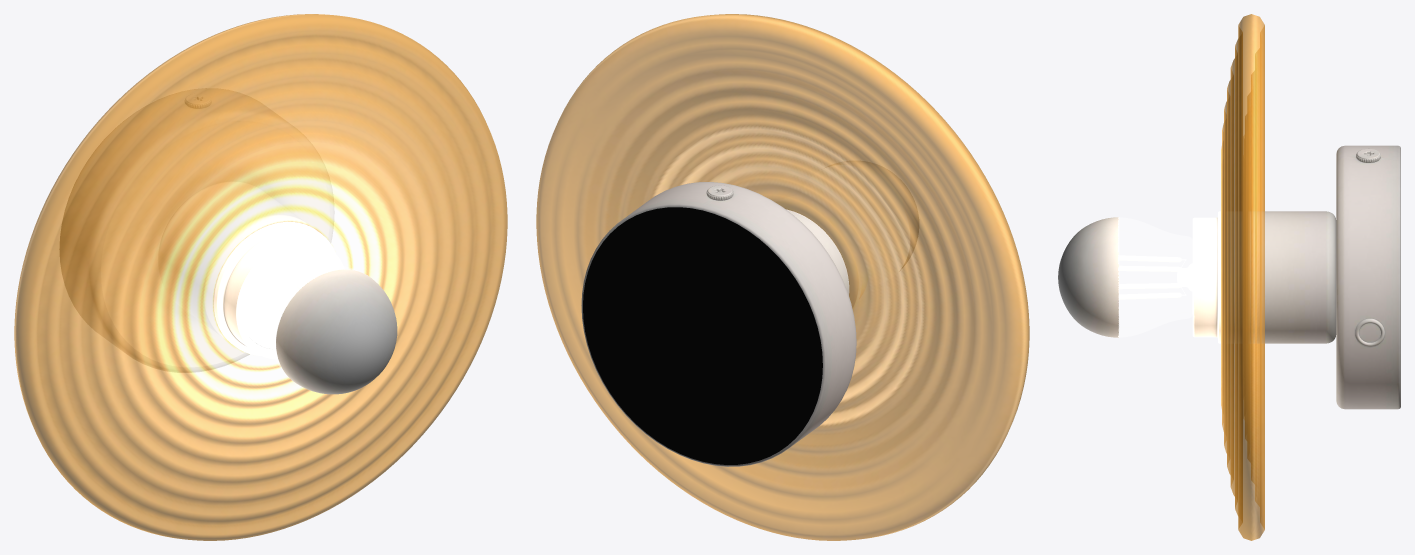
3 views of the same model, side by side, from view 1: azimuth 30°, elevation 25°; view 2: azimuth 150°, elevation 25°; view 3: azimuth 270°, elevation 25° (orthographic). The views are drawn at different scales.
Visible parts, largest first — view 1: lamp26024; view 2: lamp26024; view 3: lamp26024.
Boxes of the visible parts, x1=… form: lamp26024: x1=14, y1=14, x2=507, y2=540; lamp26024: x1=536, y1=14, x2=1029, y2=540; lamp26024: x1=1058, y1=14, x2=1400, y2=540.
Bounding box in the file's own units: 0.1998 × 0.1998 × 0.13.
Materials: 4 (1 with a texture image).
